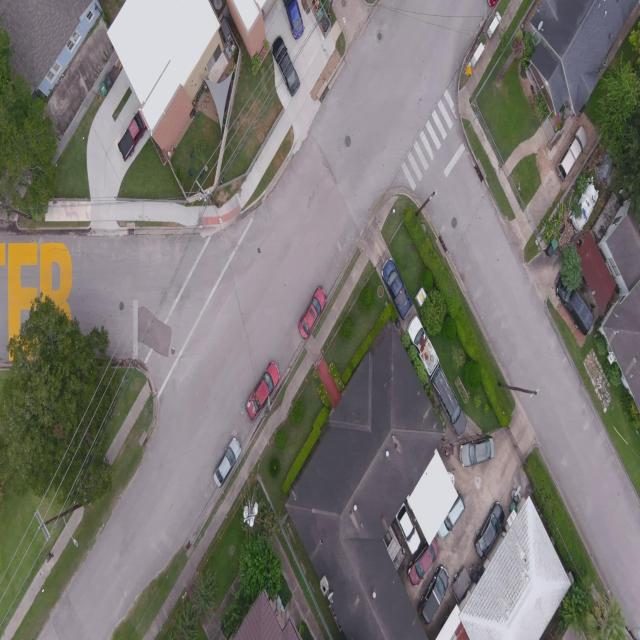Car: (418, 564, 449, 626), (474, 501, 506, 560), (272, 34, 300, 98), (298, 285, 327, 340), (436, 490, 467, 540), (213, 436, 242, 488), (408, 540, 439, 587), (395, 503, 421, 555), (460, 435, 495, 468), (281, 0, 305, 39)
Truck: (381, 256, 414, 322), (245, 362, 280, 424), (406, 316, 440, 378), (117, 110, 148, 160)
Van: (430, 366, 468, 438), (556, 276, 594, 335), (555, 125, 589, 184)
